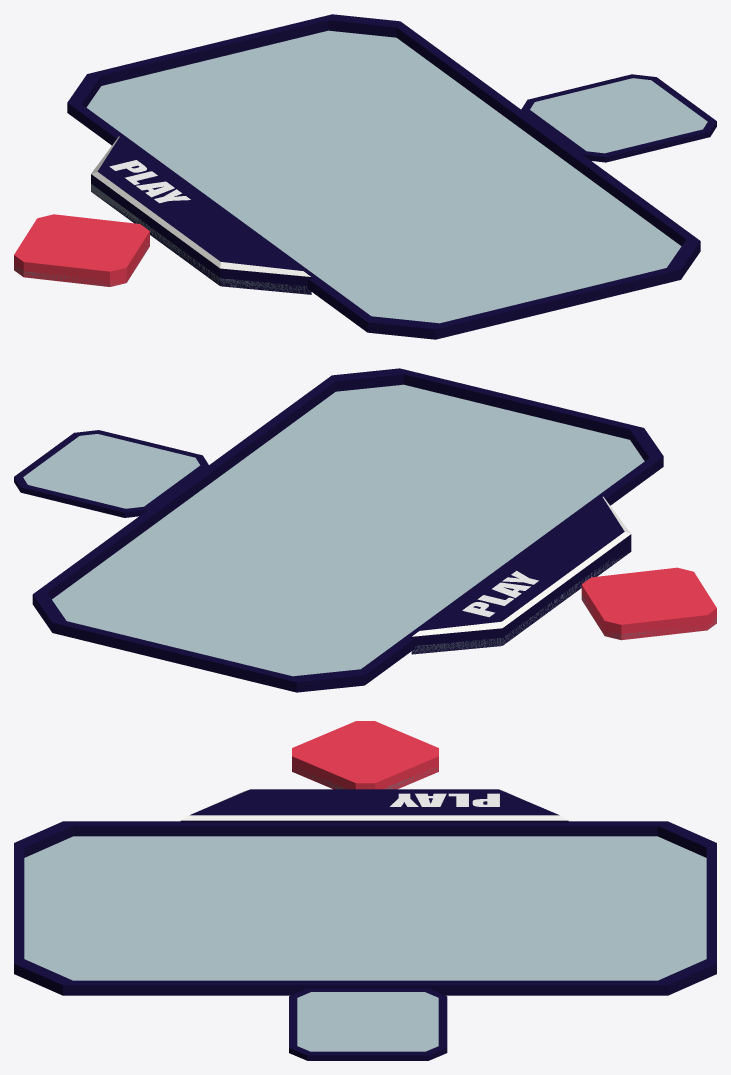
The model's file is CardsFrame.fbx.
3 views of the same model, one above another, from view 1: azimuth 30°, elevation 25°; view 2: azimuth 150°, elevation 25°; view 3: azimuth 270°, elevation 25° (orthographic).
Parts seen in each view (by area): view 1: Cards Frame, PlayCardButton, DiceFrame, RollButton, PlayCardButtonPressed; view 2: Cards Frame, PlayCardButton, DiceFrame, RollButton, PlayCardButtonPressed; view 3: Cards Frame, DiceFrame, PlayCardButton, RollButton.
Boxes of the visible parts, bbox=[...] form: Cards Frame: bbox=[67, 14, 700, 339]; PlayCardButton: bbox=[91, 136, 311, 294]; DiceFrame: bbox=[521, 74, 716, 162]; RollButton: bbox=[14, 214, 149, 286]; PlayCardButtonPressed: bbox=[91, 184, 311, 294]; Cards Frame: bbox=[32, 368, 663, 692]; PlayCardButton: bbox=[411, 496, 631, 654]; DiceFrame: bbox=[14, 430, 208, 517]; RollButton: bbox=[581, 567, 716, 640]; PlayCardButtonPressed: bbox=[411, 553, 627, 654]; Cards Frame: bbox=[14, 821, 716, 995]; DiceFrame: bbox=[289, 988, 447, 1060]; PlayCardButton: bbox=[180, 789, 568, 822]; RollButton: bbox=[292, 721, 438, 789].
Bounding box in the file's own units: 8.91 × 0.2945 × 8.04.
